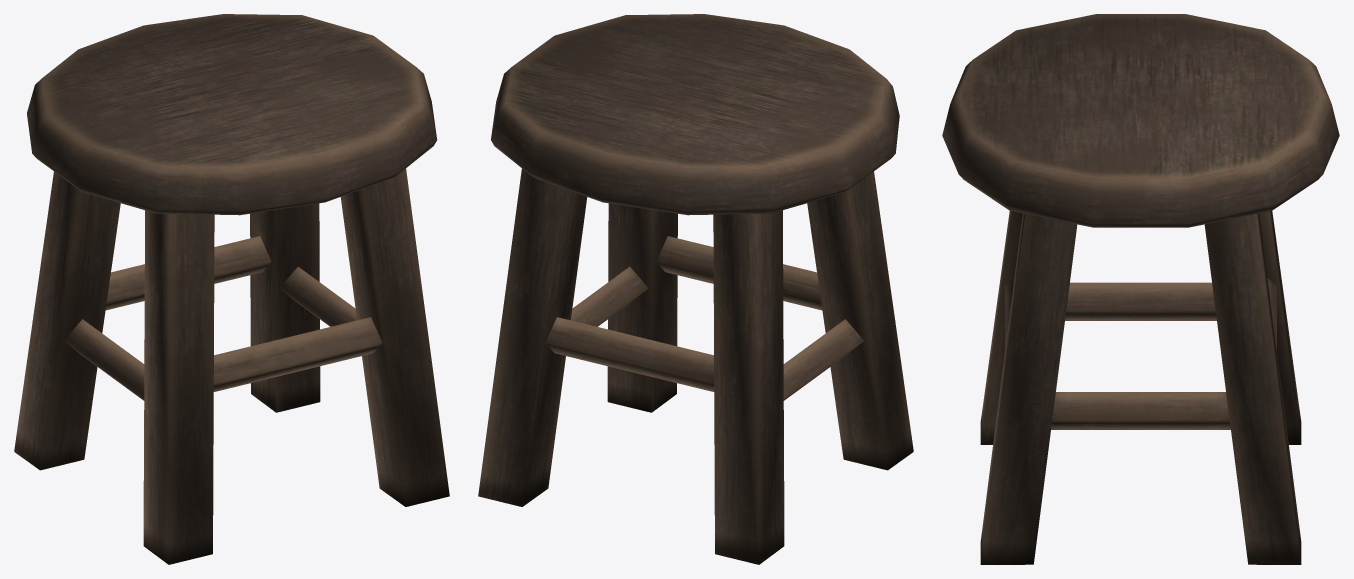
The model's file is lillebord.glb.
3 renders of one model, left to right at view 1: azimuth 30°, elevation 25°; view 2: azimuth 150°, elevation 25°; view 3: azimuth 270°, elevation 25°, orthographic. The views are drawn at different scales.
Visible parts, largest first — view 1: Cylinder; view 2: Cylinder; view 3: Cylinder.
Boxes of the visible parts, x1,y1,x2,y2 form: Cylinder: (14,14,449,564); Cylinder: (478,14,913,564); Cylinder: (942,14,1339,564).
Size of the model in its own units: 0.5367 by 0.5577 by 0.5043.
Materials: 1 (1 with a texture image).
